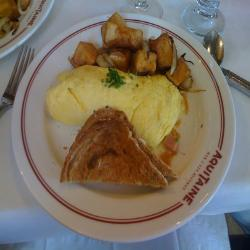bread: (45, 104, 190, 198)
omelette: (41, 64, 192, 151)
